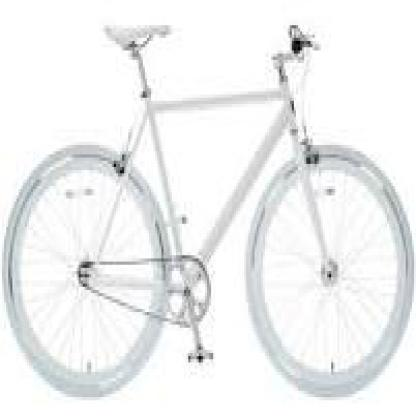Bike: (2, 16, 416, 416)
